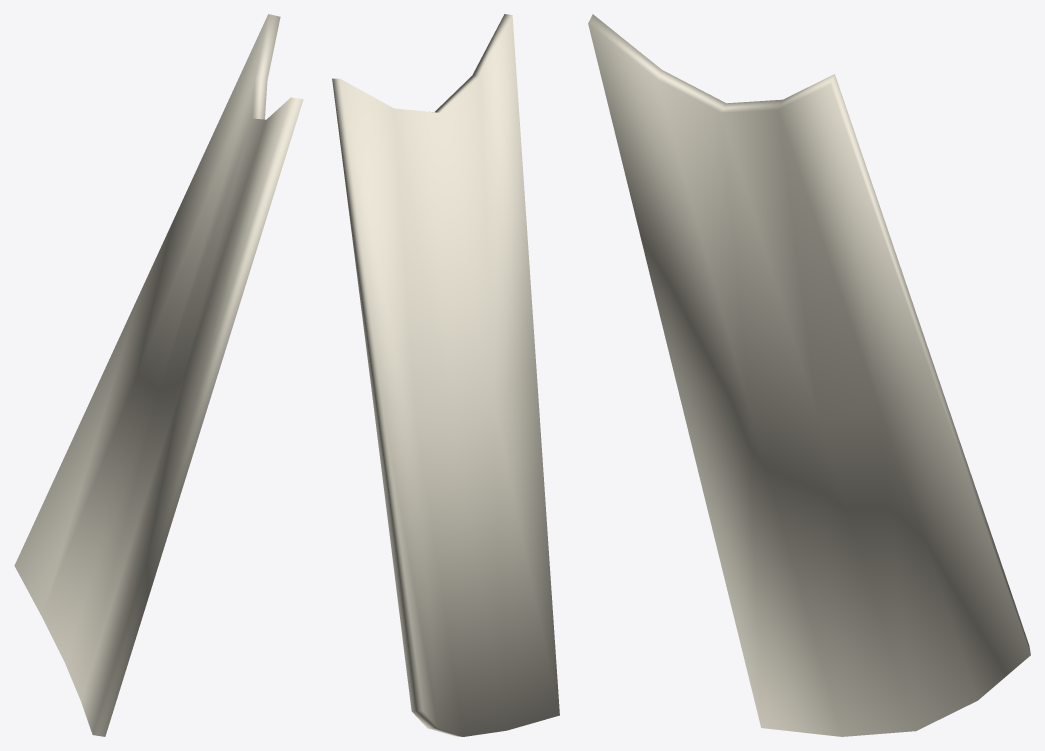
3 renders of one model, left to right at view 1: azimuth 30°, elevation 25°; view 2: azimuth 150°, elevation 25°; view 3: azimuth 270°, elevation 25°, orthographic. The views are drawn at different scales.
Visible parts, largest first — view 1: ZA_da00a3aabe307100; view 2: ZA_da00a3aabe307100; view 3: ZA_da00a3aabe307100.
Part boxes in pixels (bbox=[...]): ZA_da00a3aabe307100: bbox=[14, 14, 303, 736]; ZA_da00a3aabe307100: bbox=[332, 14, 559, 736]; ZA_da00a3aabe307100: bbox=[588, 14, 1030, 736].
Size of the model in its own units: 0.00932 by 0.0275 by 0.0142.
